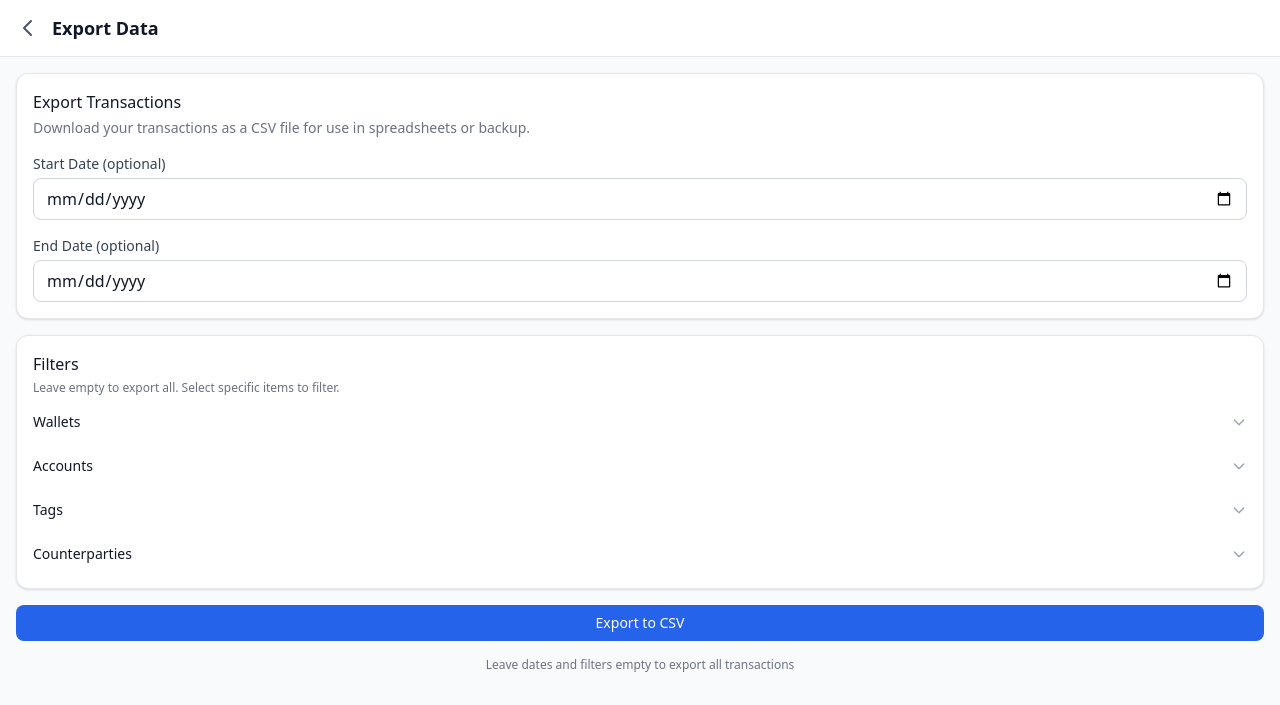
ExportPage › Rendering › should filter accounts by selected wallet
The width and height of the screenshot is (1280, 705).
Click the button "Wallets" at (57, 422), box [33, 404, 1247, 440]
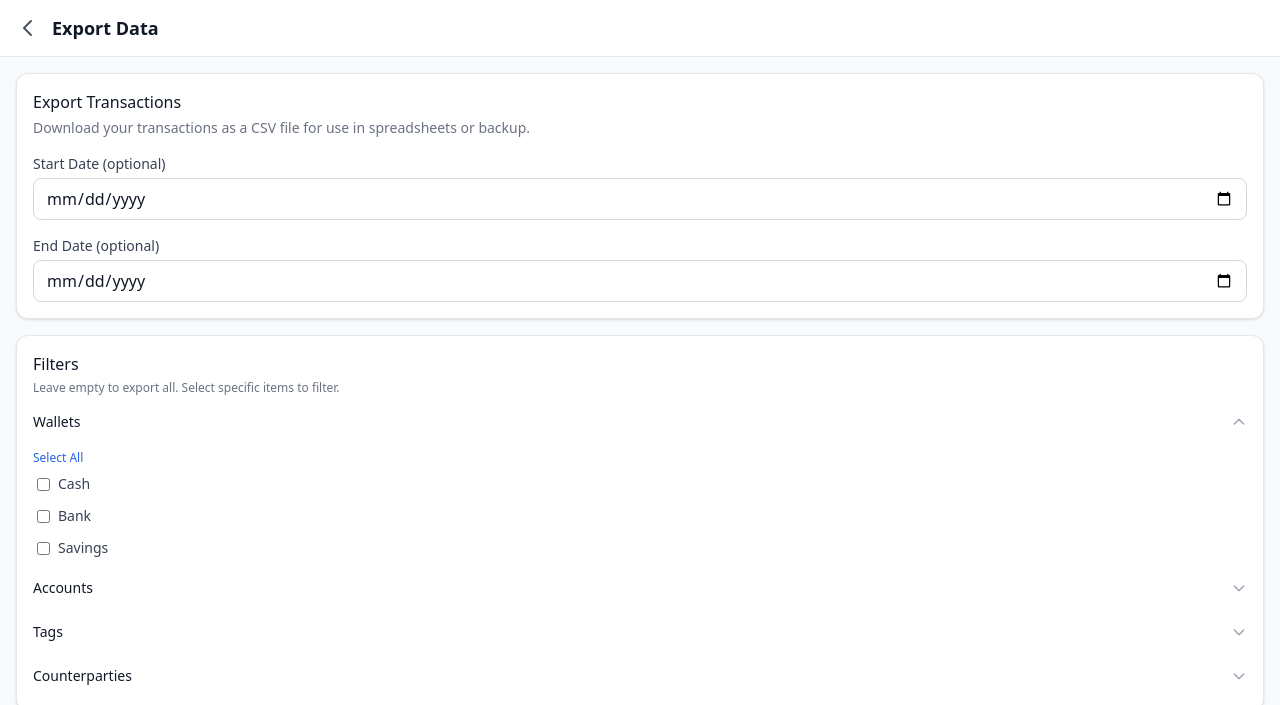
Expected: the text "Cash" is shown
Click the text "Cash" at (74, 484), box [58, 474, 90, 494]
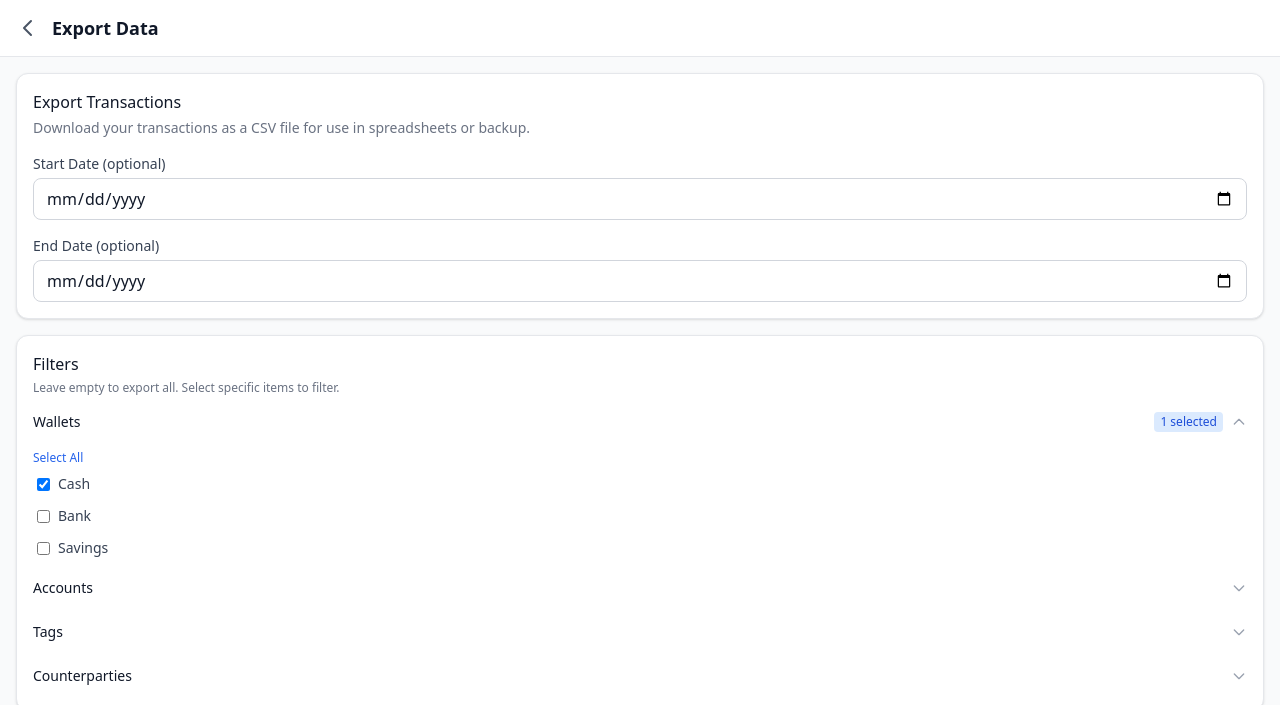
Click the button "Accounts" at (63, 588), box [33, 570, 1247, 606]
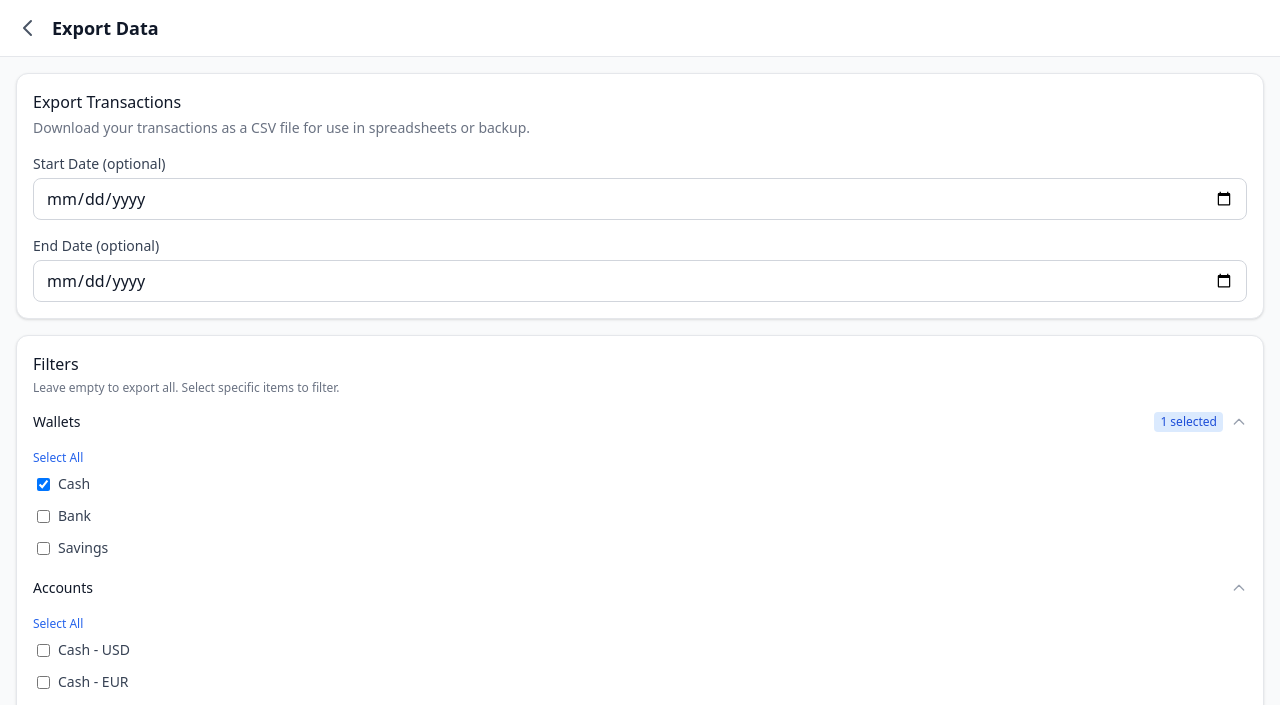
Expected: the text "Cash - USD" is shown, [58, 640, 130, 660]
